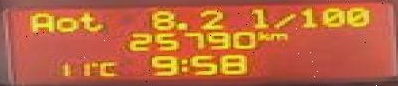-: (173, 22, 187, 29)
0: (344, 6, 369, 26), (317, 7, 341, 27), (230, 31, 252, 48)
1: (296, 7, 315, 27), (78, 61, 89, 76), (60, 61, 68, 76)
2: (195, 8, 222, 28), (125, 32, 152, 51)
5: (187, 55, 214, 75), (151, 32, 176, 49)
7: (181, 32, 203, 49)
8: (146, 10, 173, 30), (217, 53, 244, 73)
9: (149, 53, 176, 74), (203, 31, 228, 48)
X: (78, 10, 103, 31), (27, 12, 51, 32), (52, 16, 79, 32), (246, 7, 263, 27), (271, 12, 292, 27), (95, 61, 114, 76), (176, 57, 187, 71), (266, 32, 285, 39), (255, 31, 266, 40)
